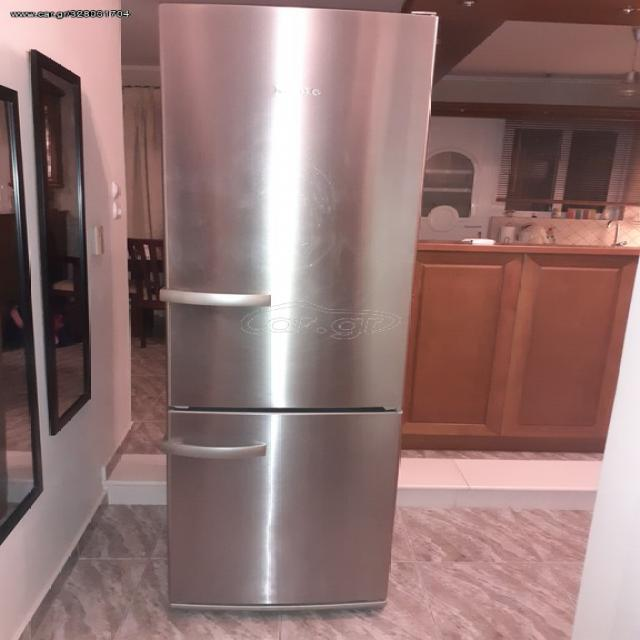refrigerator: (153, 2, 438, 609)
